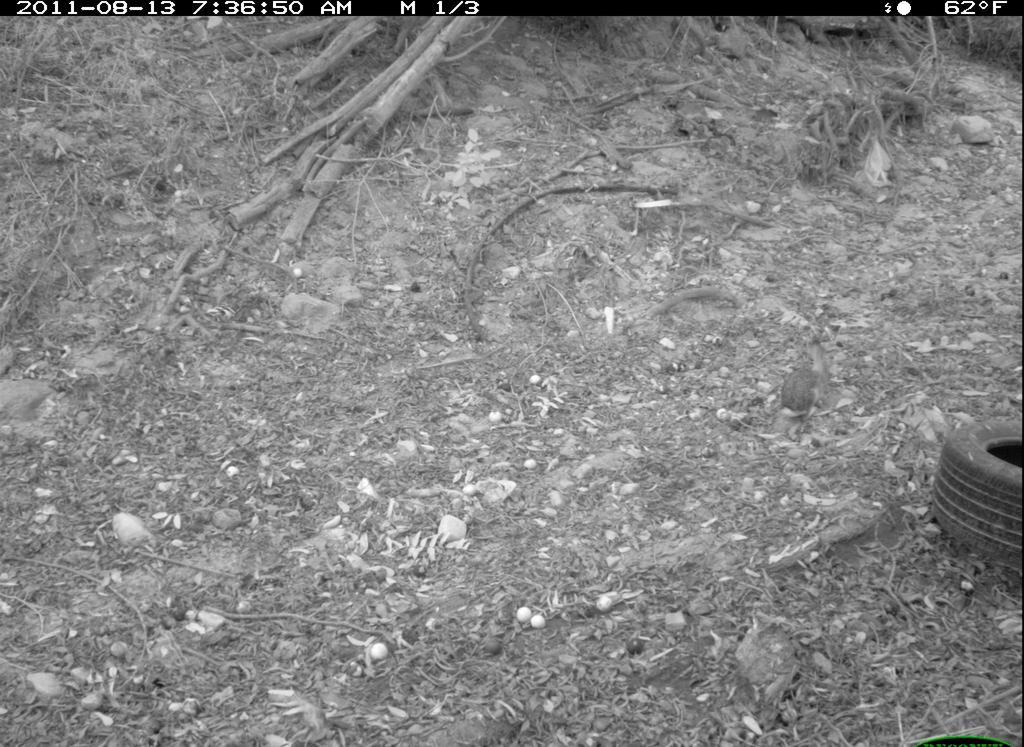rabbit: (753, 333, 849, 424)
